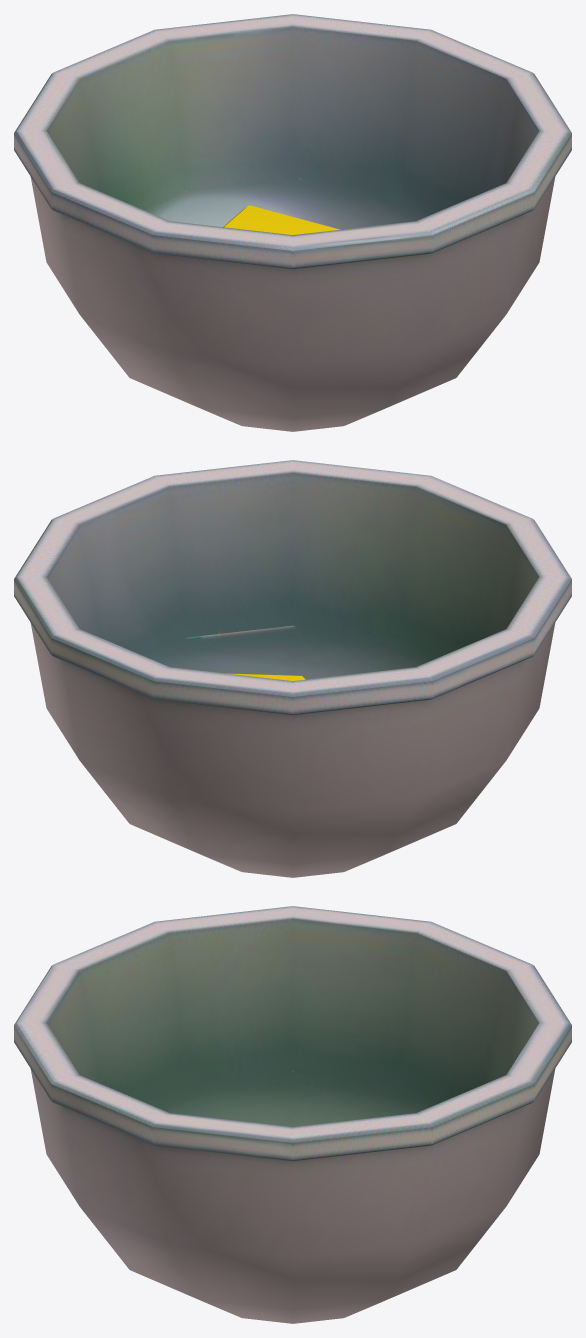
File: mixingBowlButter.glb
The picture shows the model from 3 angles, top to bottom: view 1: azimuth 30°, elevation 25°; view 2: azimuth 150°, elevation 25°; view 3: azimuth 270°, elevation 25°; orthographic projection.
Parts seen in each view (by area): view 1: MixingBowl, Butter; view 2: MixingBowl; view 3: MixingBowl.
Boxes of the visible parts, left/top/right/bottom form: MixingBowl: left=14, top=14, right=571, bottom=431; Butter: left=223, top=205, right=339, bottom=234; MixingBowl: left=14, top=460, right=571, bottom=877; MixingBowl: left=14, top=906, right=571, bottom=1323.
Bounding box in the file's own units: 0.3931 × 0.2142 × 0.3931.
Materials: 2 (2 with a texture image).
